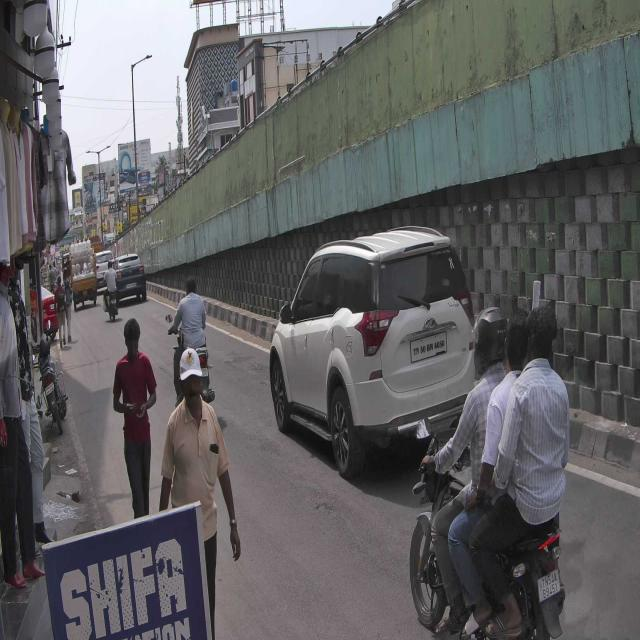triple_rider: (407, 299, 571, 640)
